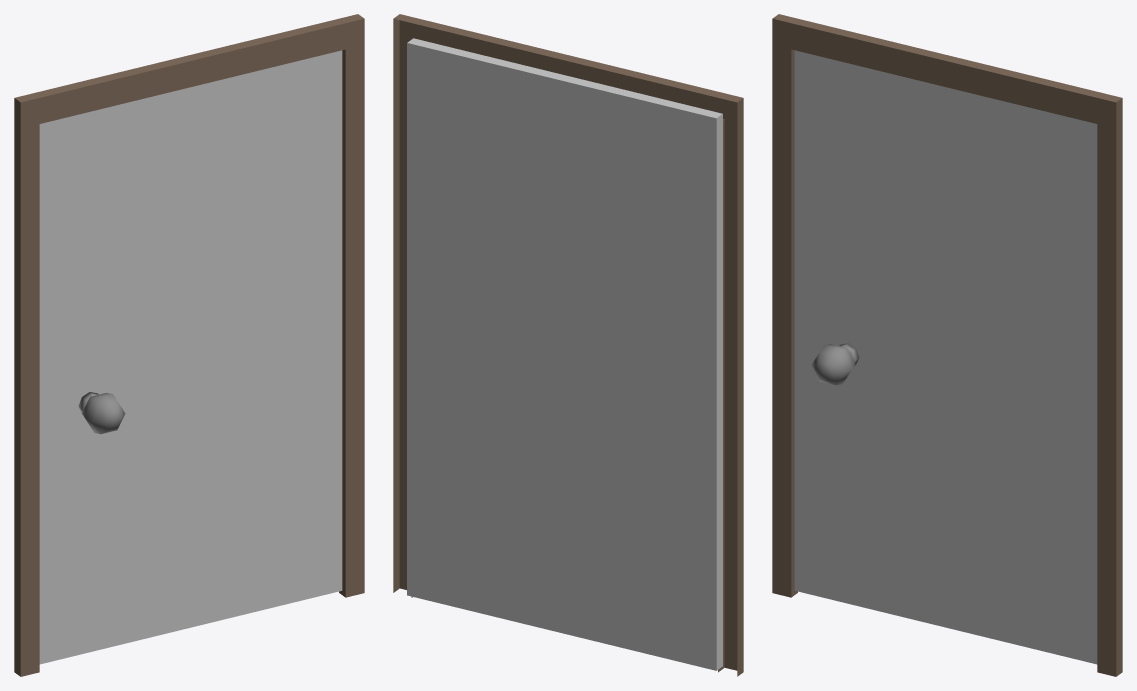
The model's file is Env_door.fbx.
3 views of the same model, side by side, from view 1: azimuth 30°, elevation 25°; view 2: azimuth 150°, elevation 25°; view 3: azimuth 330°, elevation 25° (orthographic).
Visible parts, largest first — view 1: door1; view 2: door1; view 3: door1.
Boxes of the visible parts, box(x1,y1,x2,y2) form: door1: box(14, 14, 364, 676); door1: box(393, 14, 743, 676); door1: box(772, 14, 1122, 676).
Bounding box in the file's own units: 2.23 × 3.57 × 0.3567.
